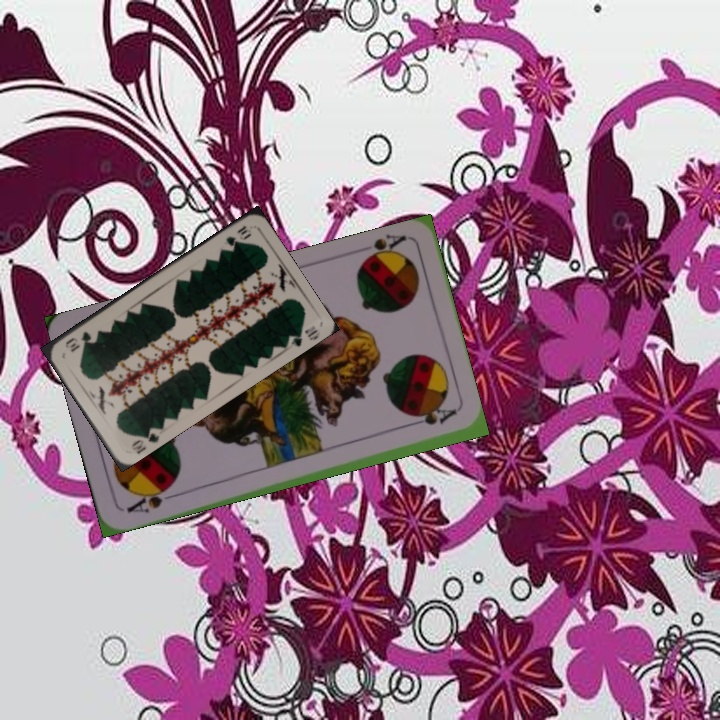G10: (127, 423, 162, 456), (222, 222, 254, 249)
SA: (356, 230, 409, 268), (122, 483, 175, 516)
